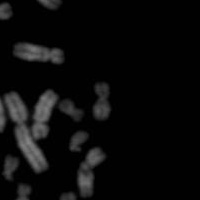chromosome: (2, 91, 47, 172), (77, 144, 104, 199), (12, 40, 65, 65), (30, 89, 55, 139), (92, 80, 111, 121), (59, 98, 84, 123), (13, 0, 59, 11), (67, 130, 89, 152), (0, 157, 20, 181), (12, 184, 33, 200), (0, 85, 6, 132), (0, 1, 10, 21), (58, 190, 78, 200)
